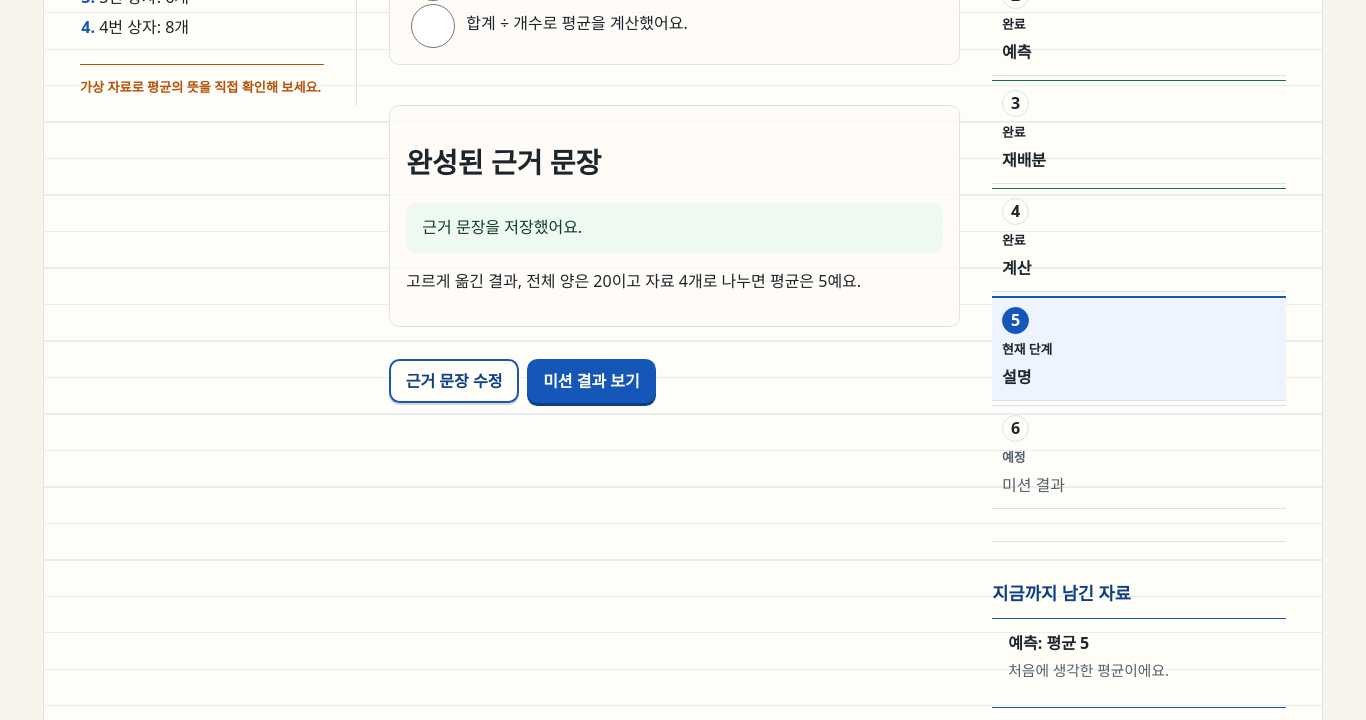
it: learning router handoff › connects saved evidence to the mission result and then starts the next required mission
This screenshot has width=1366, height=720.
(page scrolled)
Click the button "미션 결과 보기" at x=592, y=381, box x1=527 y1=359 x2=656 y2=403
(page scrolled)
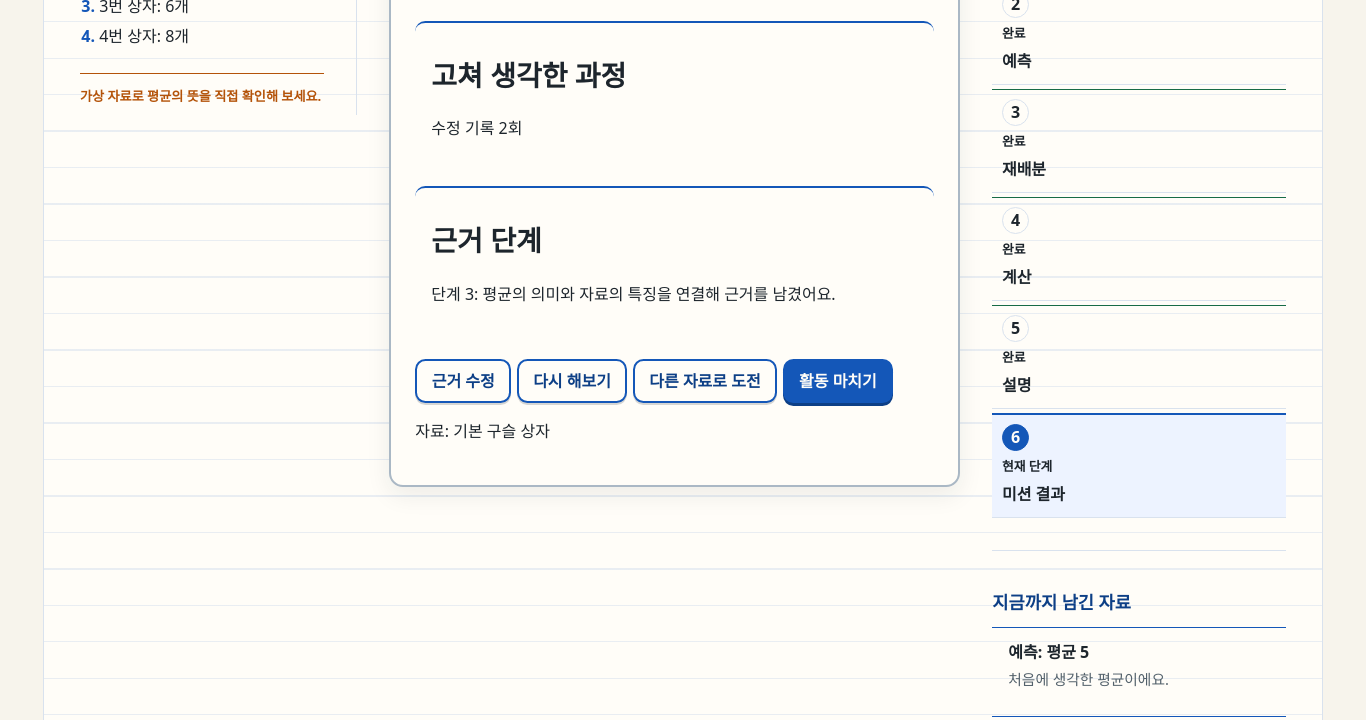
Click the button "활동 마치기" at x=838, y=381, box x1=783 y1=359 x2=893 y2=403
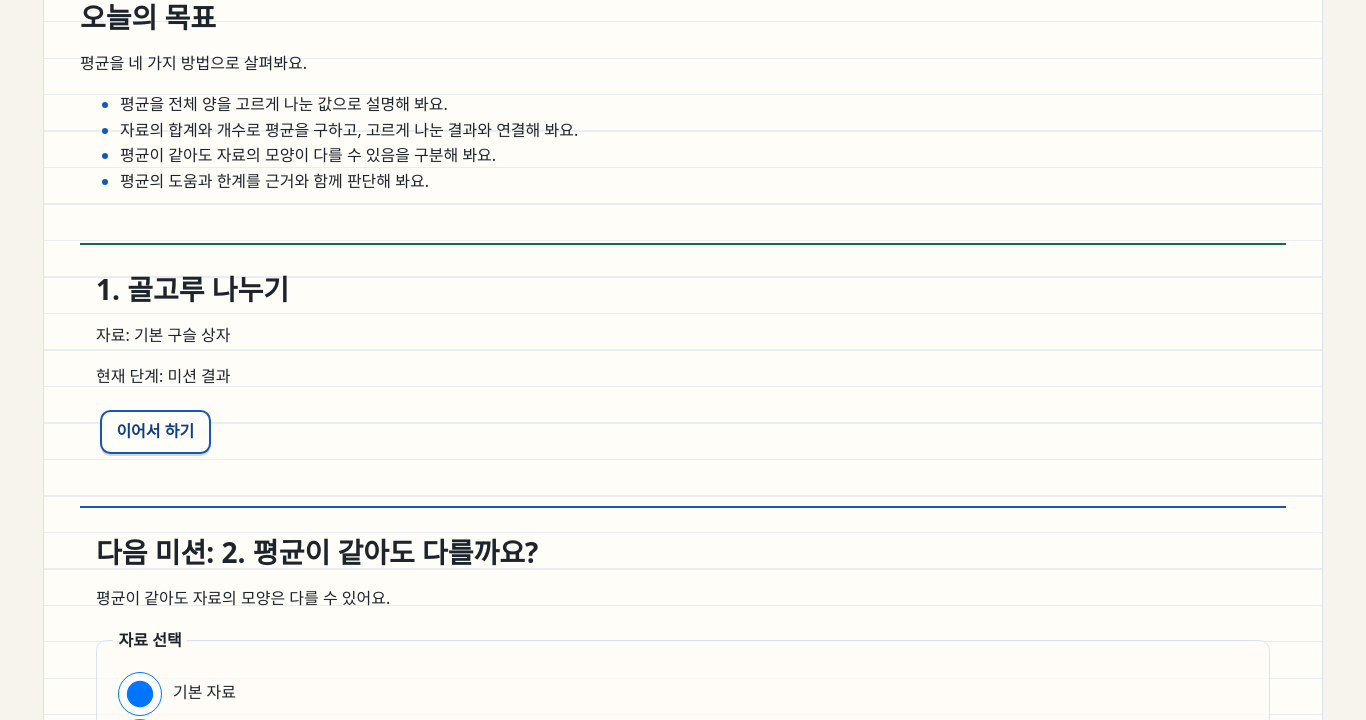
expect the heading "다음 미션: 2. 평균이 같아도 다를까요?" is shown: met, box x1=96 y1=533 x2=538 y2=571
